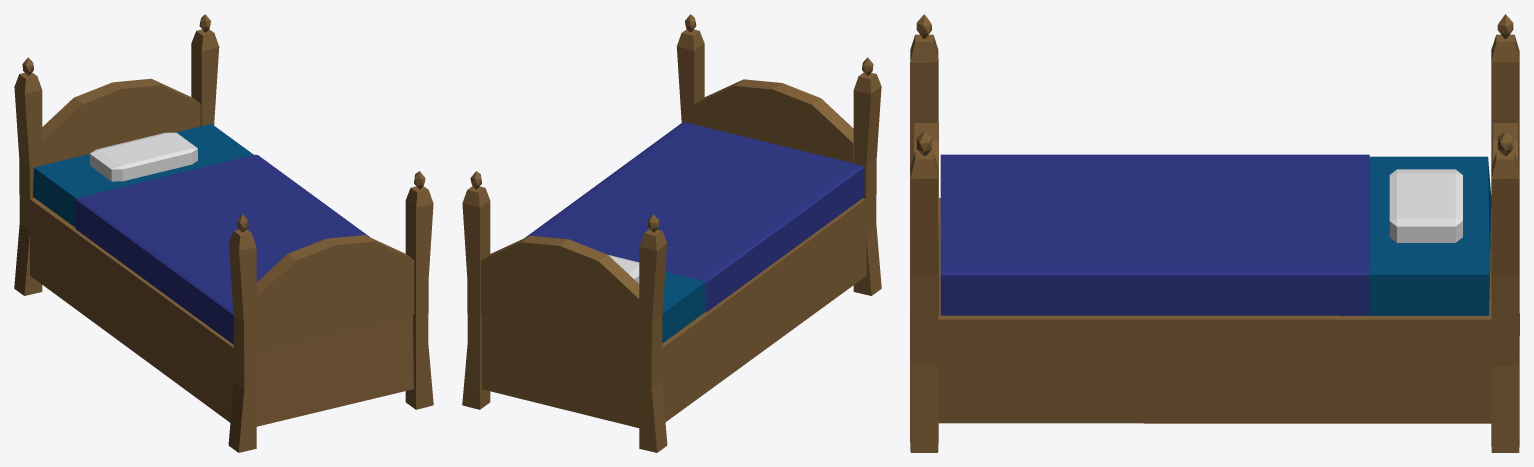
File: bed_corr.fbx
The picture shows the model from 3 angles, left to right: view 1: azimuth 30°, elevation 25°; view 2: azimuth 150°, elevation 25°; view 3: azimuth 270°, elevation 25°; orthographic projection. The views are drawn at different scales.
Visible parts, largest first — view 1: BottomPart, Bedsheet, MiddlePart, Legs, Mattress, Pillow; view 2: Bedsheet, BottomPart, MiddlePart, Legs, Mattress; view 3: Bedsheet, BottomPart, Legs, Mattress, Pillow, MiddlePart.
Boxes of the visible parts, x1,y1,x2,y2 form: BottomPart: [21, 198, 413, 426]; Bedsheet: [75, 154, 370, 344]; MiddlePart: [42, 78, 414, 352]; Legs: [14, 14, 433, 452]; Mattress: [33, 123, 253, 227]; Pillow: [90, 132, 197, 181]; Bedsheet: [525, 122, 864, 312]; BottomPart: [481, 198, 873, 427]; MiddlePart: [481, 79, 853, 353]; Legs: [462, 14, 881, 452]; Mattress: [662, 272, 705, 343]; Bedsheet: [940, 154, 1369, 315]; BottomPart: [917, 198, 1514, 423]; Legs: [910, 14, 1519, 452]; Mattress: [1340, 156, 1491, 315]; Pillow: [1389, 169, 1462, 242]; MiddlePart: [914, 123, 1517, 310].
Size of the model in its own units: 1.75 by 2 by 3.5.
